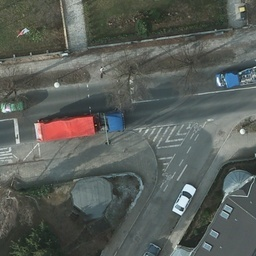car: (173, 183, 195, 214), (1, 98, 31, 113)
